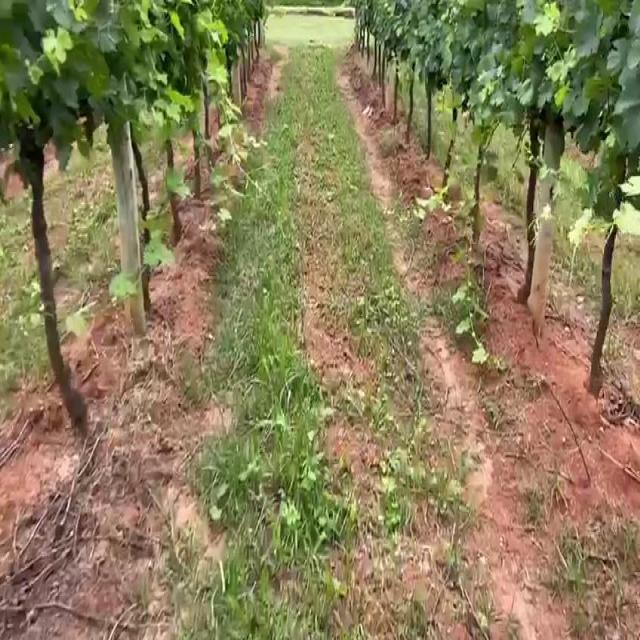tree trunk: (20, 127, 86, 429), (528, 114, 564, 338), (108, 121, 145, 335), (587, 223, 617, 397)
